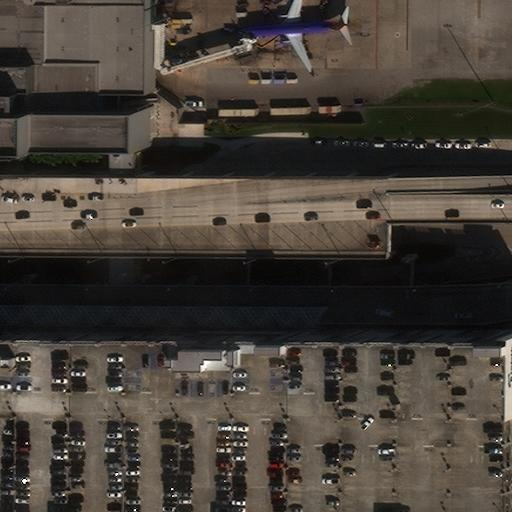Medium Civil Transport: (237, 0, 348, 73)
